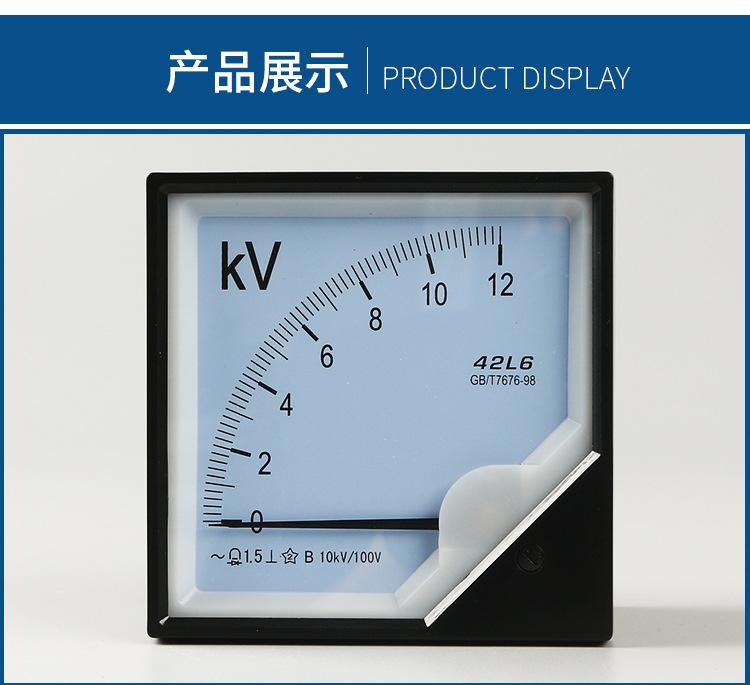pointer: (165, 190, 595, 638)
